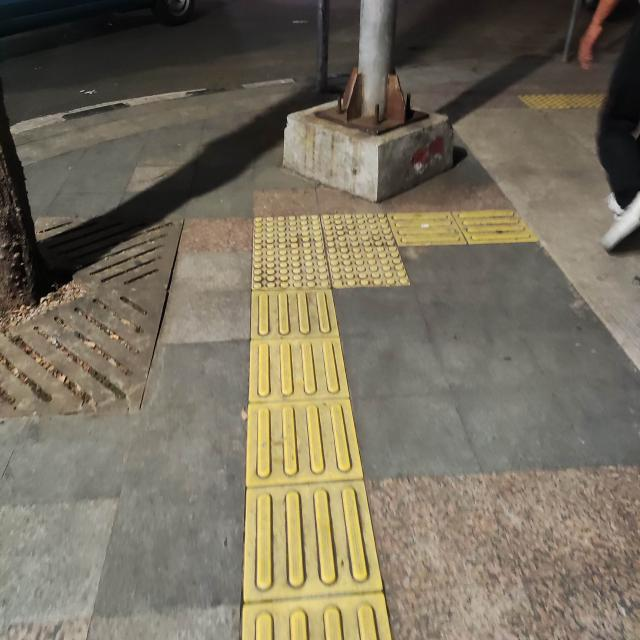kanan: (214, 178, 502, 346)
